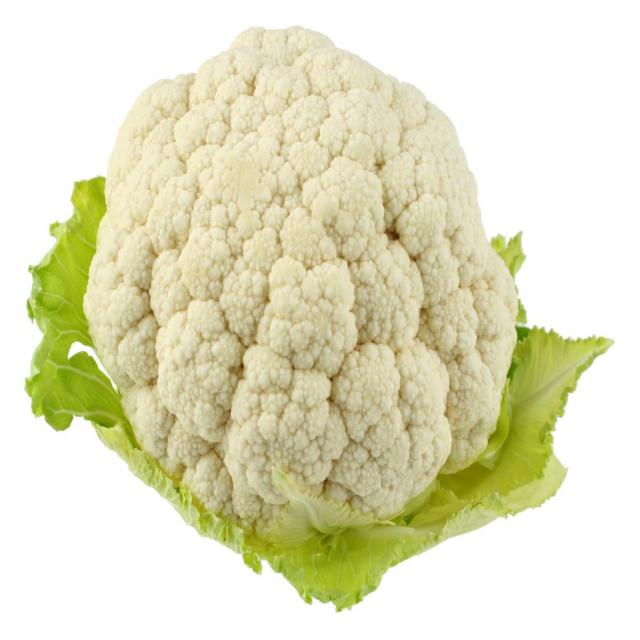cauliflower: (46, 8, 580, 604)
